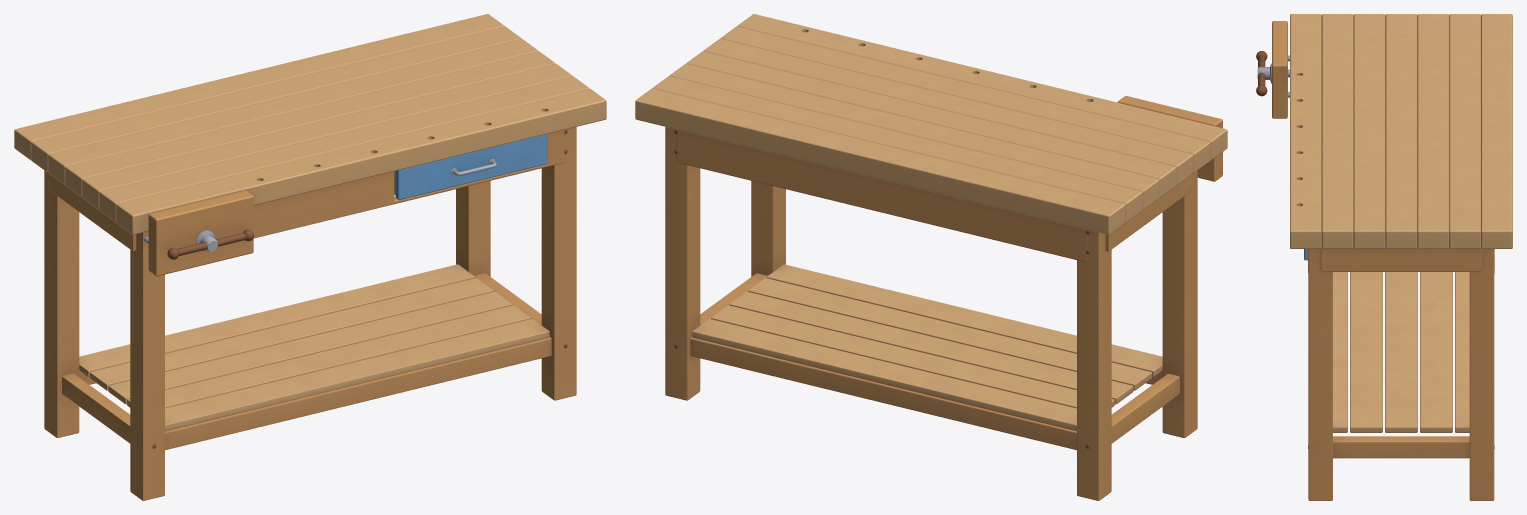
Rendered from workbench.obj.
3 views of the same model, side by side, from view 1: azimuth 30°, elevation 25°; view 2: azimuth 150°, elevation 25°; view 3: azimuth 270°, elevation 25° (orthographic). The views are drawn at different scales.
Visible parts, largest first — view 1: workbench_body, workbench_drawer; view 2: workbench_body; view 3: workbench_body.
Boxes of the visible parts, <box> form: workbench_body: <box>14,14,606,500</box>; workbench_drawer: <box>394,134,547,199</box>; workbench_body: <box>635,14,1227,500</box>; workbench_body: <box>1256,14,1512,500</box>.
Bounding box in the file's own units: 1.5 × 0.9 × 0.7485.
2 materials, 2 textured.
